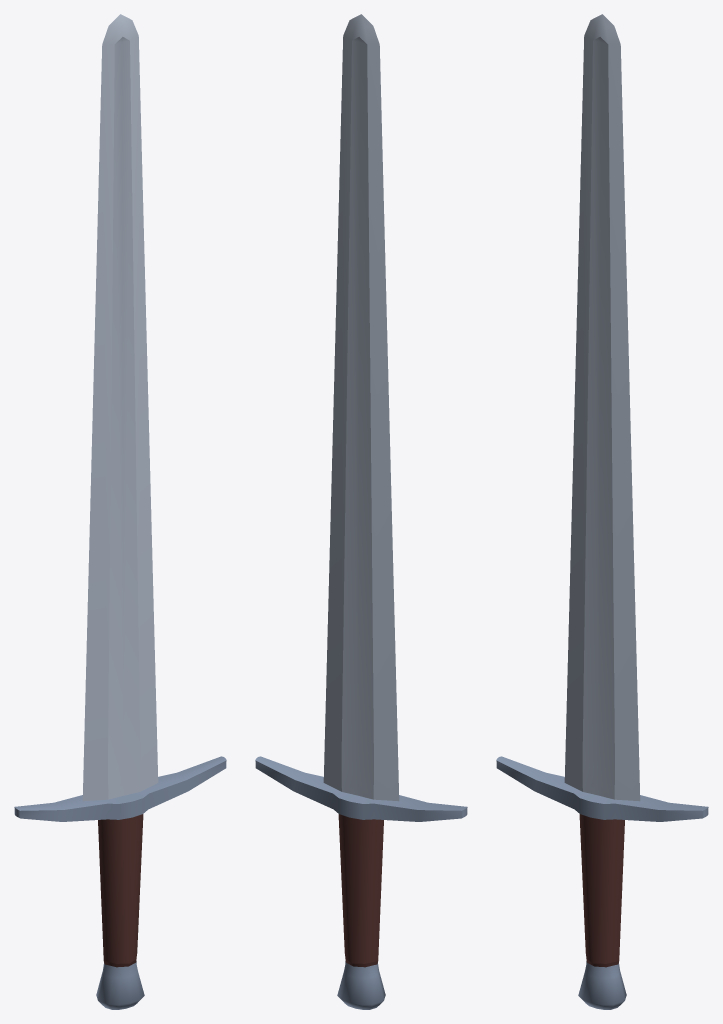
Rendered from BroadSword.fbx.
3 views of the same model, side by side, from view 1: azimuth 30°, elevation 25°; view 2: azimuth 150°, elevation 25°; view 3: azimuth 330°, elevation 25° (orthographic).
Parts seen in each view (by area): view 1: BroadSword; view 2: BroadSword; view 3: BroadSword.
Part boxes in pixels (x1,y1,x2,y2): BroadSword: (14,14,226,1009); BroadSword: (255,14,467,1009); BroadSword: (496,14,708,1009).
Size of the model in its own units: 19.79 by 89.97 by 3.79.
